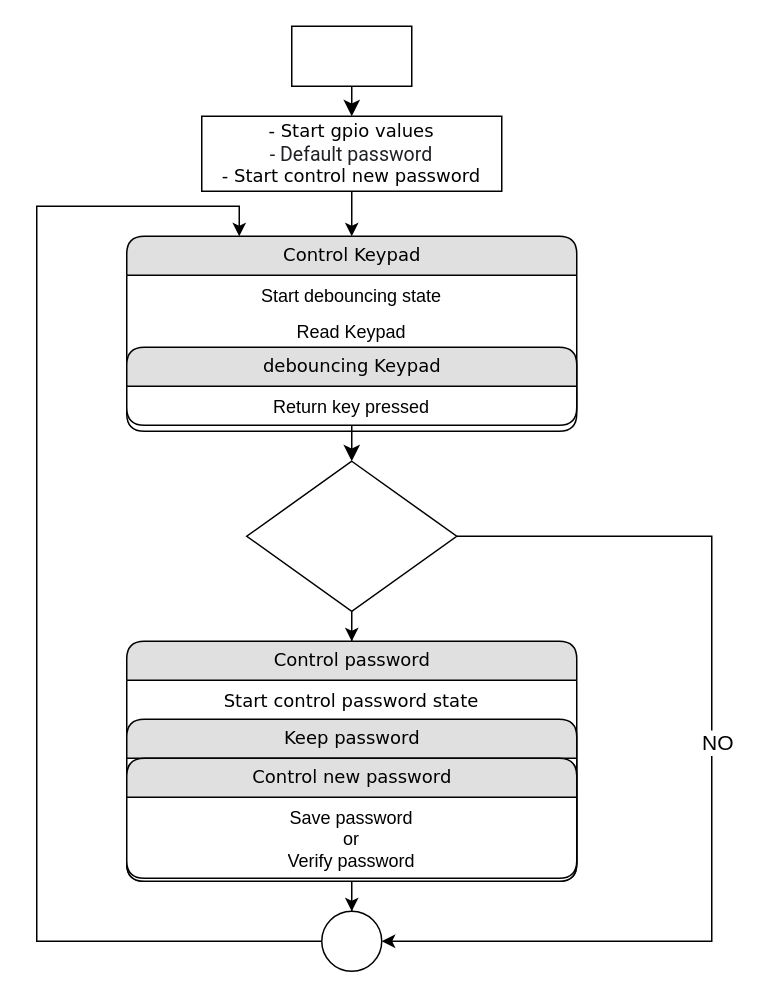
Image size: 765x998. Some labels were removed from this diagram. Each missing label, with the centre of its shape:
if was pulsed keypad: (351,535)
Input: (351,55)
